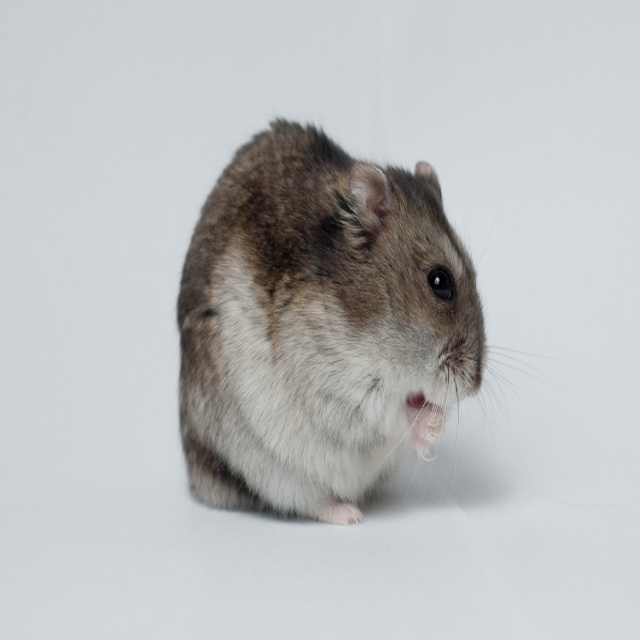Mouse: (179, 111, 541, 521)
